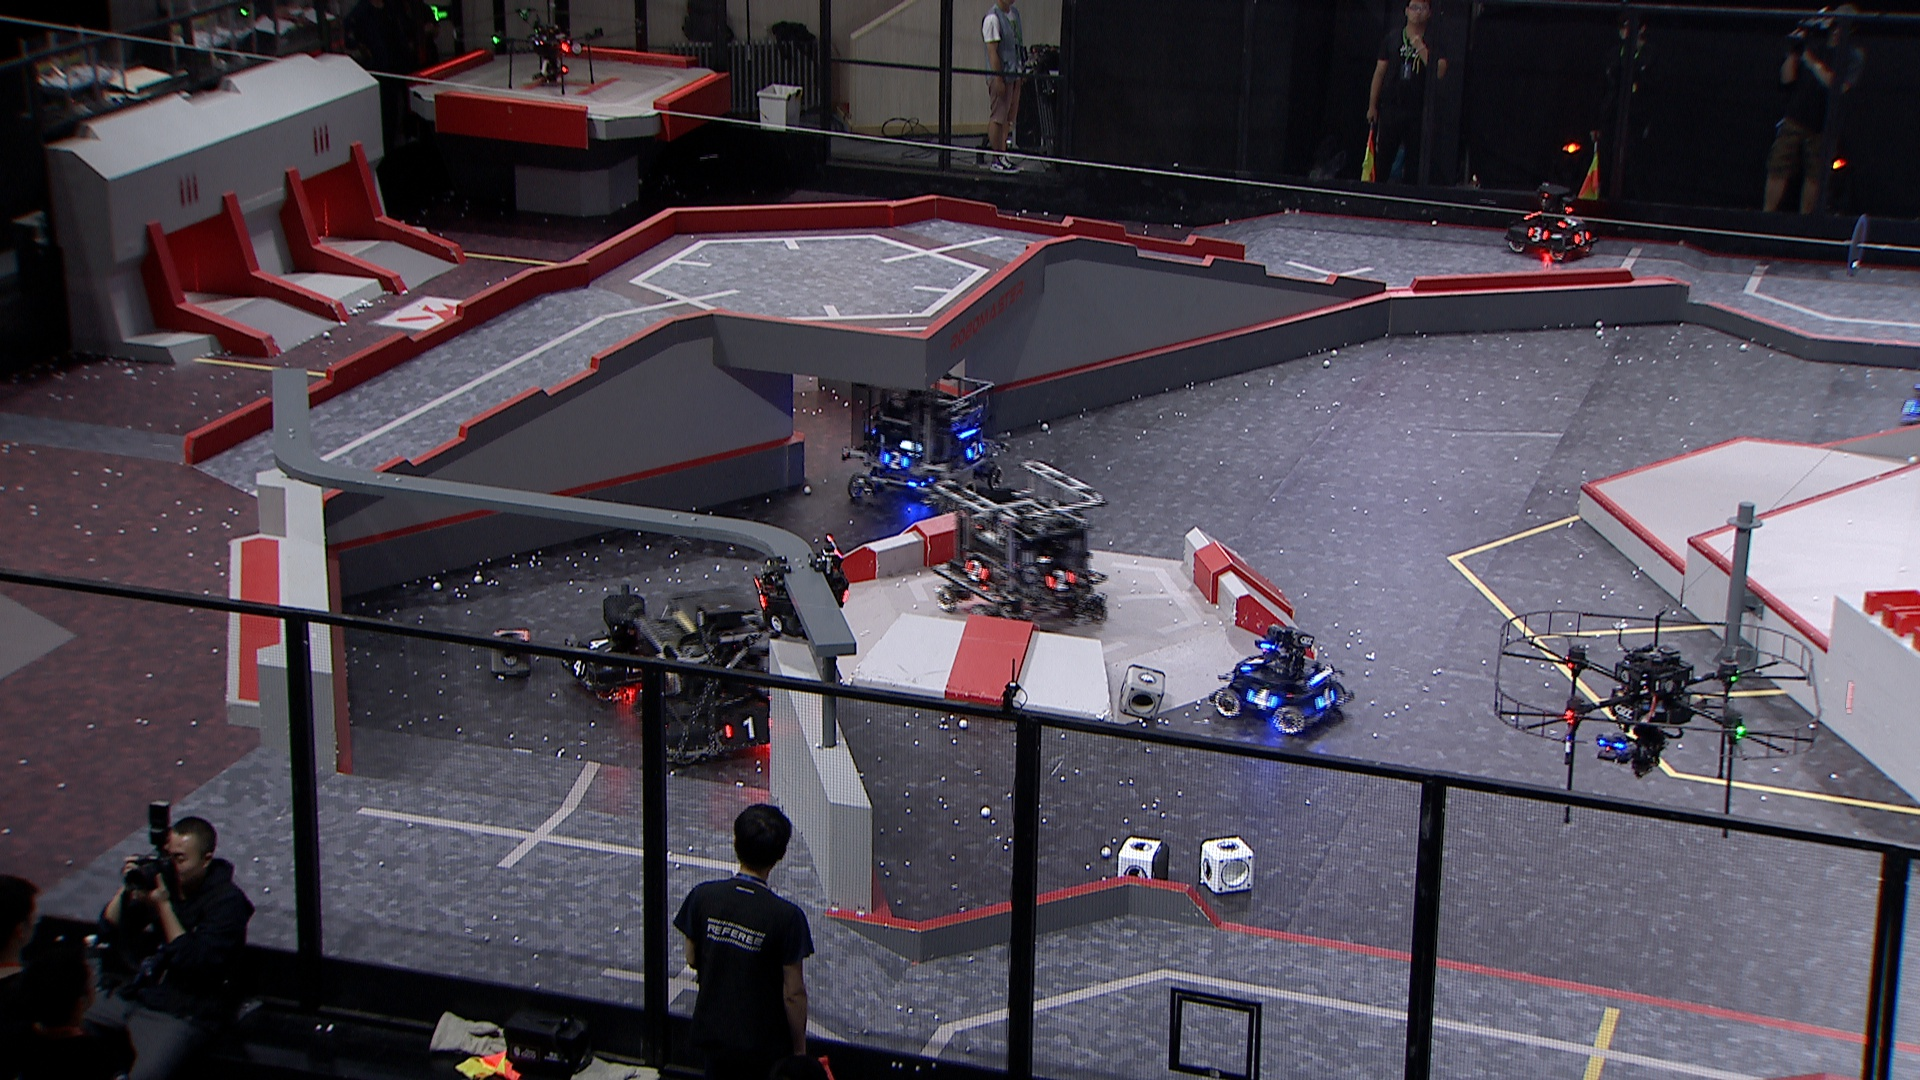armor: (723, 712, 775, 746), (1043, 564, 1077, 593), (1244, 684, 1276, 712), (749, 575, 771, 613), (584, 632, 615, 659), (1311, 687, 1342, 712), (961, 556, 988, 585), (880, 451, 915, 472), (1238, 647, 1266, 674), (566, 650, 589, 678), (1522, 223, 1552, 244), (1553, 210, 1585, 229), (963, 439, 986, 462), (1571, 225, 1593, 247)
car: (632, 584, 818, 767), (931, 455, 1110, 637), (844, 371, 1001, 514), (1211, 622, 1358, 741), (560, 580, 694, 707), (1499, 182, 1600, 264)
watcher: (746, 534, 851, 641)
